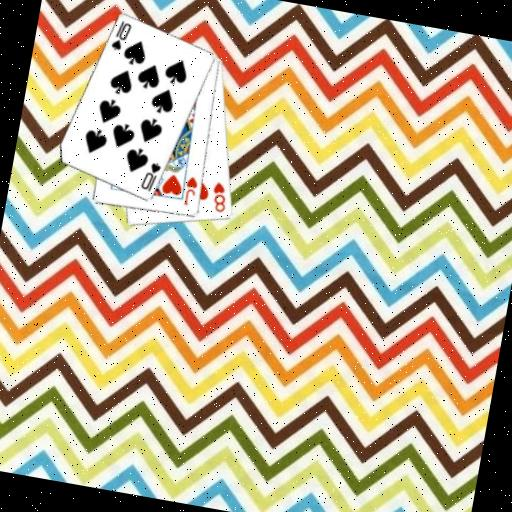10S: (136, 158, 163, 195), (107, 17, 134, 54)
8H: (206, 178, 231, 215)
JH: (180, 172, 201, 208)
